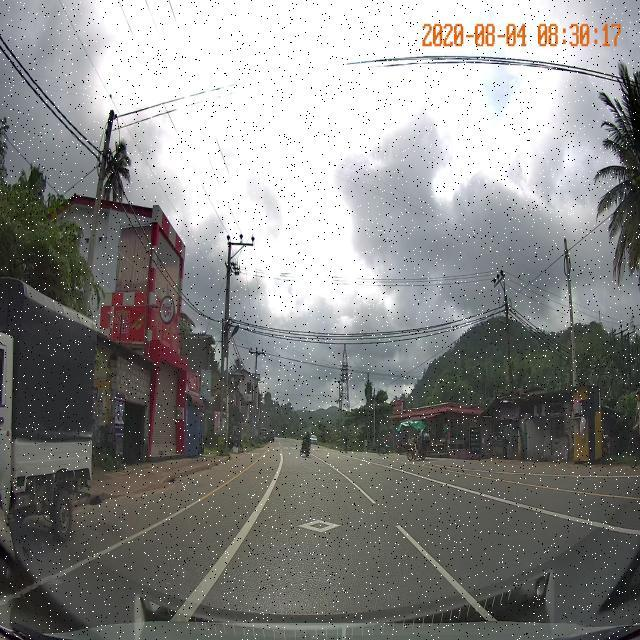diamond: (225, 495, 421, 544)
